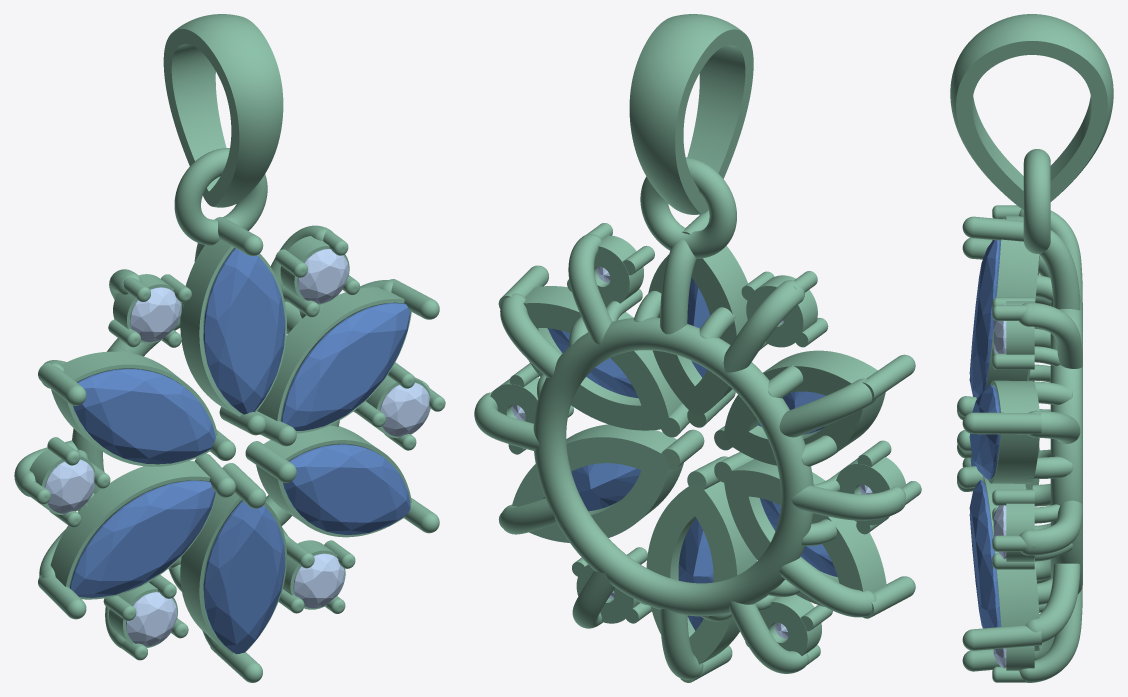
3 renders of one model, left to right at view 1: azimuth 30°, elevation 25°; view 2: azimuth 150°, elevation 25°; view 3: azimuth 270°, elevation 25°, orthographic. The views are drawn at different scales.
Visible parts, largest first — view 1: NPD Z0044 RPT.3dm, Diamond_Marquise (×6), Diamond_Round (×6); view 2: NPD Z0044 RPT.3dm, Diamond_Marquise (×5); view 3: NPD Z0044 RPT.3dm, Diamond_Marquise (×4), Diamond_Round (×2).
Boxes of the visible parts, x1,y1,x2,y2 form: NPD Z0044 RPT.3dm: [14, 14, 445, 682]; Diamond_Marquise (×6): [70, 248, 410, 654]; Diamond_Round (×6): [45, 249, 429, 646]; NPD Z0044 RPT.3dm: [474, 14, 921, 682]; Diamond_Marquise (×5): [548, 277, 837, 630]; NPD Z0044 RPT.3dm: [950, 14, 1113, 682]; Diamond_Marquise (×4): [969, 240, 1000, 628]; Diamond_Round (×2): [993, 304, 1006, 559].
Bounding box in the file's own units: 2.18 × 3.27 × 0.7449.
